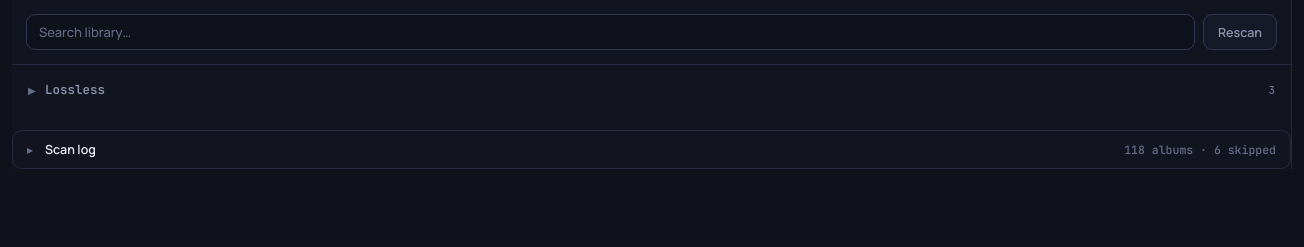
Sidebar scan log › renders each skipped-directory line with its level once opened
Click the button "▸ Scan log 118 albums · 6 skipped".
click(70, 150)  # box [13,131,1290,168]
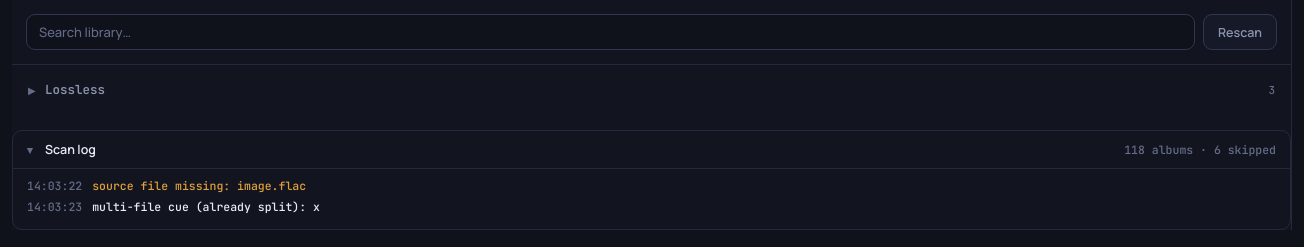
Expected: the number of list items is 2, [27,178,306,193]; [27,199,320,214]
Expected: the list item "14:03:22 source file missing: image.flac" is shown, [27,178,306,193]
Expected: the list item "14:03:23 multi-file cue (already split): x" is shown, [27,199,320,214]
